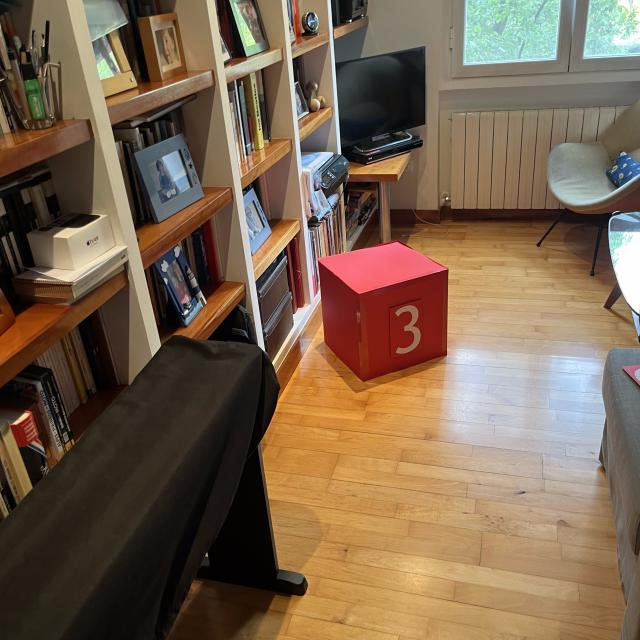box: (314, 236, 452, 383)
